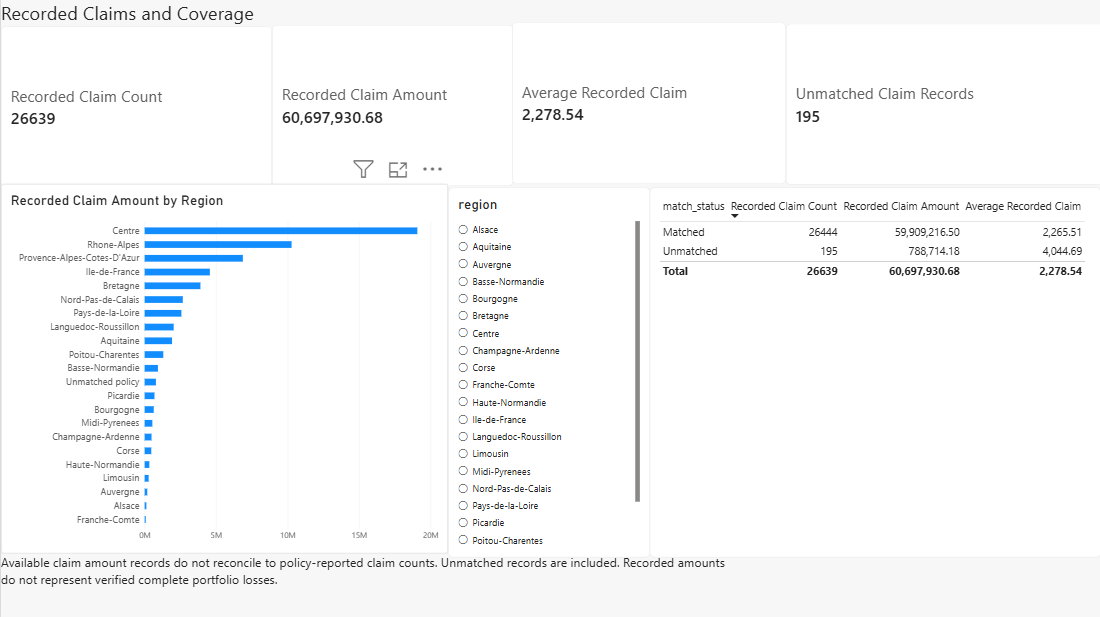

The dashboard page shown, as its layout file describes it:
{"tool":"powerbi","page":{"name":"Recorded Claims and Coverage","canvas":[1920,1080],"ordinal":1},"visuals":[{"type":"cardVisual","fields":{"Data":["Claims.Recorded Claim Amount"]},"box":[471.7,43.5,419.6,280.4],"z":0},{"type":"cardVisual","fields":{"Data":["Claims.Recorded Claim Count"]},"box":[0,45.7,471.7,280.4],"z":1},{"type":"cardVisual","fields":{"Data":["Claims.Average Recorded Claim"]},"box":[889.1,39.1,476.1,280.4],"z":2},{"type":"cardVisual","fields":{"Data":["Claims.Unmatched Claim Records"]},"box":[1365.2,41.3,554.3,280.4],"z":3},{"type":"tableEx","fields":{"Values":["Claims.match_status","Claims.Recorded Claim Count","Claims.Recorded Claim Amount","Claims.Average Recorded Claim"]},"box":[1128.3,326.1,784.8,643.5],"z":4},{"type":"clusteredBarChart","title":"Recorded Claim Amount by Region","fields":{"Category":["Claims.region"],"Y":["Claims.Recorded Claim Amount"]},"box":[0,319.6,778.3,643.5],"z":5},{"type":"listSlicer","fields":{"Values":["Claims.region"]},"box":[778.3,326.1,350,643.5],"z":6},{"type":"textbox","box":[0,0,448.4,79.7],"z":7},{"type":"textbox","box":[0,963,1280.4,117.4],"z":8}]}

Visuals, with their boxes in screenshot pixels (x1, y1, x2, y2), scaled from the page's 1920x1080 canvas onto the 1100x617 screenshot:
cardVisual - Claims.Recorded Claim Amount: rect(270, 25, 511, 185)
cardVisual - Claims.Recorded Claim Count: rect(0, 26, 270, 186)
cardVisual - Claims.Average Recorded Claim: rect(509, 22, 782, 183)
cardVisual - Claims.Unmatched Claim Records: rect(782, 24, 1099, 184)
tableEx - Claims.match_status x Claims.Recorded Claim Count: rect(646, 186, 1096, 554)
"Recorded Claim Amount by Region" clusteredBarChart: rect(0, 183, 446, 550)
listSlicer - Claims.region: rect(446, 186, 646, 554)
textbox: rect(0, 0, 257, 46)
textbox: rect(0, 550, 734, 616)
